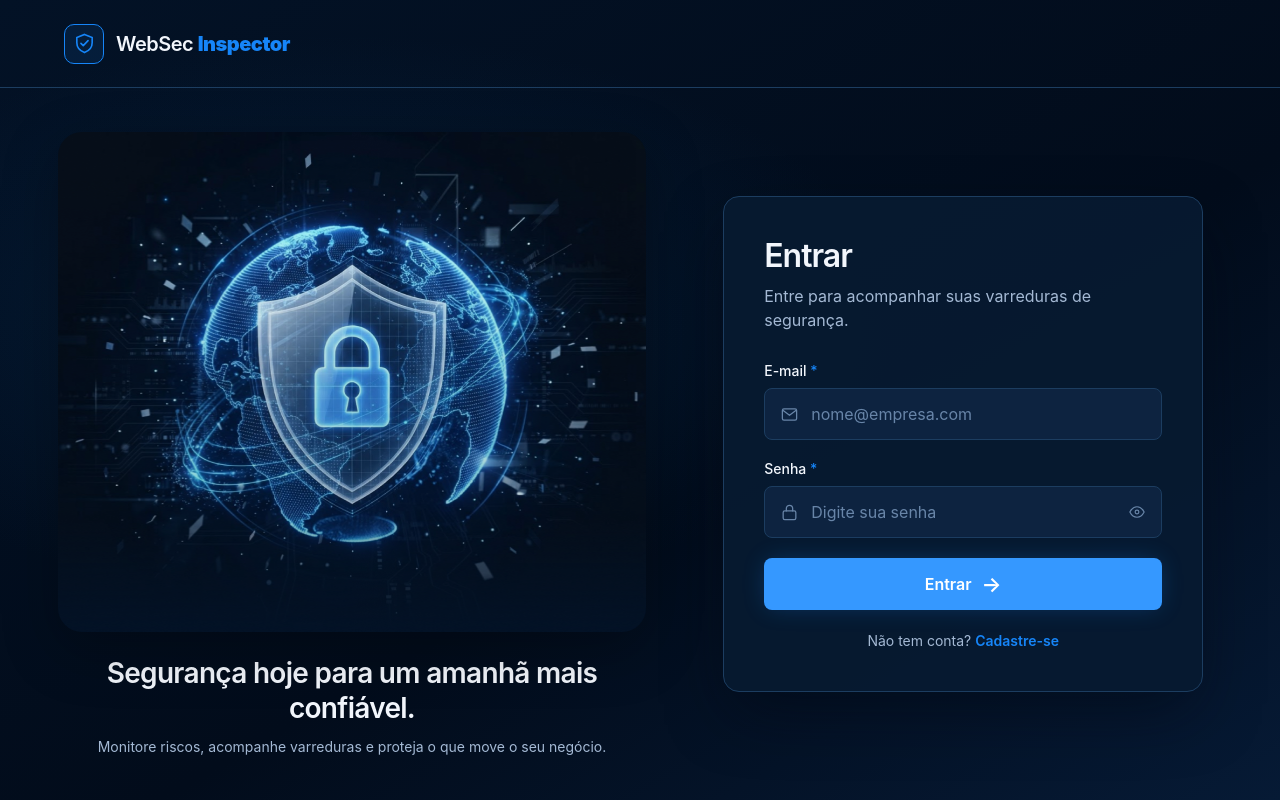
Autenticação — componentes reais, transporte HTTP simulado › AUTH-UI-02: valida campos vazios no login
Click the button "Entrar →" at (963, 584), box [764,558,1162,610]
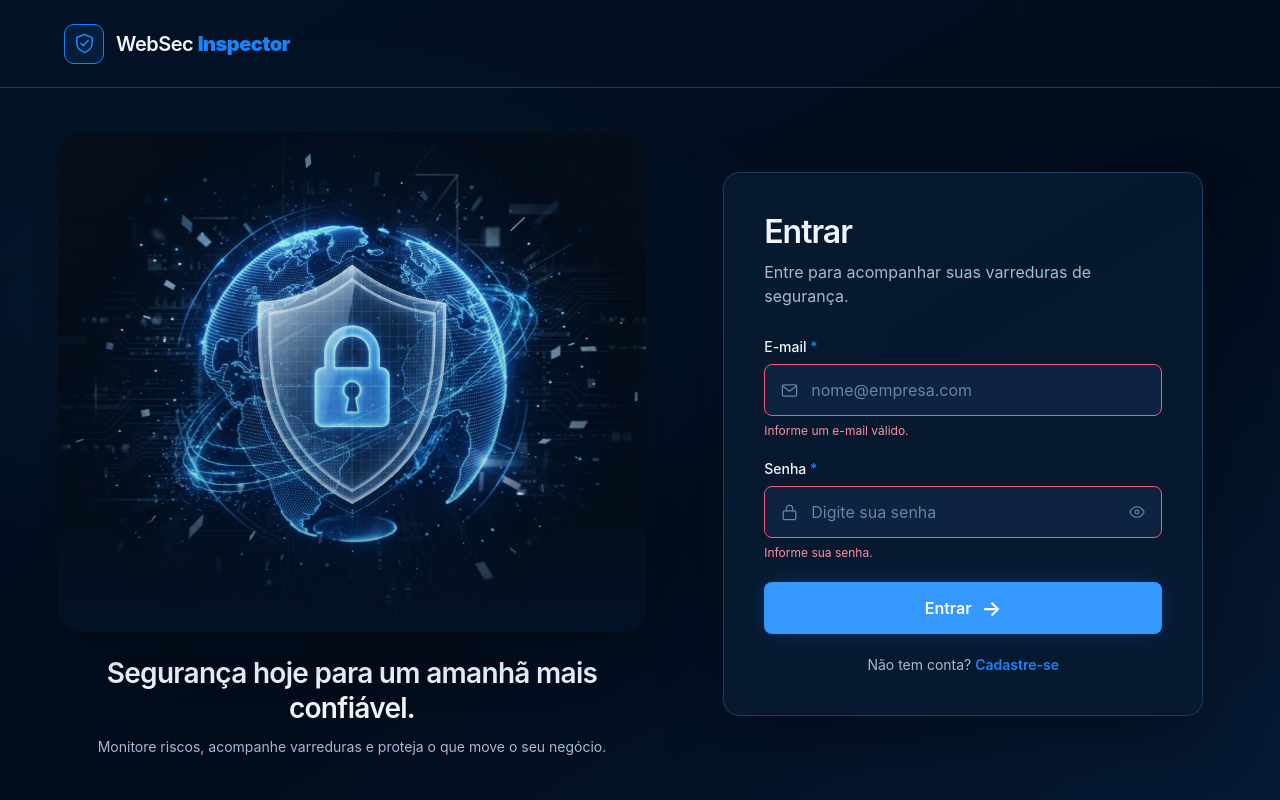
Check: the text "Informe um e-mail válido." is shown, box [764,423,909,438]
Check: the text "Informe sua senha." is shown, box [764,545,873,560]
